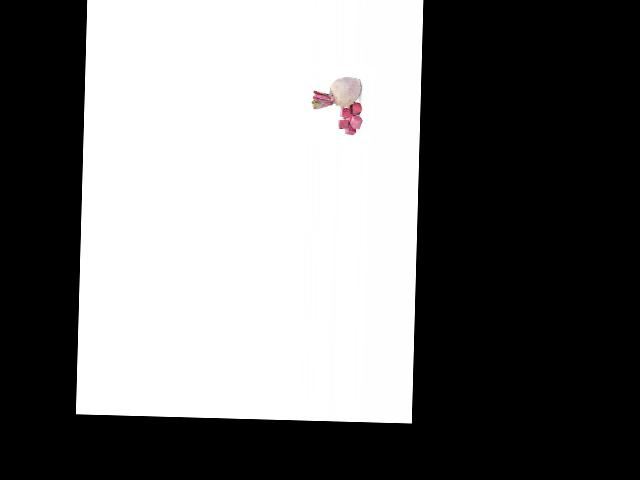beet: (312, 76, 362, 110)
